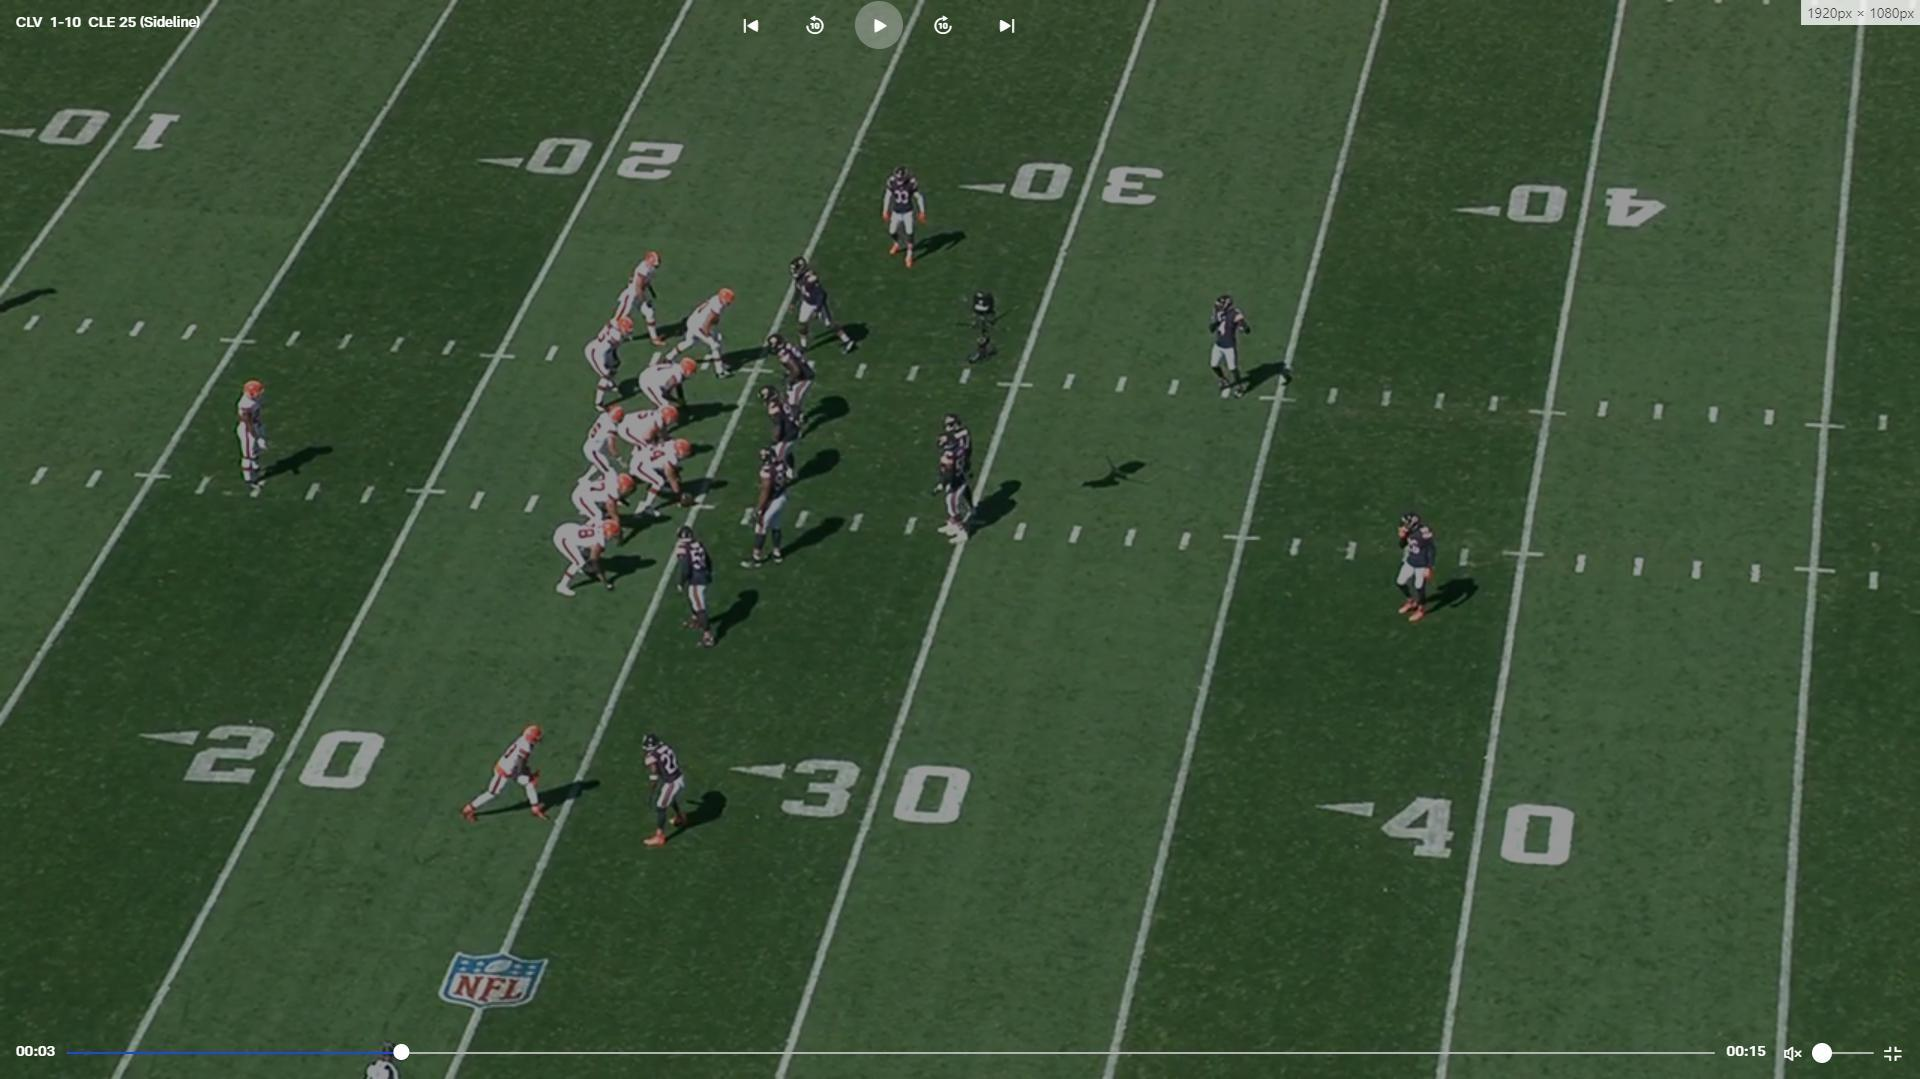player: (463, 720, 553, 829), (790, 255, 864, 358), (670, 524, 721, 656), (638, 727, 690, 852), (741, 442, 789, 576), (675, 284, 743, 377), (771, 329, 821, 453), (626, 435, 700, 518), (1389, 507, 1440, 627), (548, 519, 619, 602), (876, 166, 928, 274), (1208, 291, 1255, 406), (231, 376, 274, 497), (756, 380, 804, 488), (589, 308, 638, 410), (574, 470, 643, 539), (624, 248, 667, 347), (640, 351, 701, 416), (936, 432, 968, 545), (584, 401, 629, 479), (619, 402, 678, 449), (935, 412, 977, 468)
